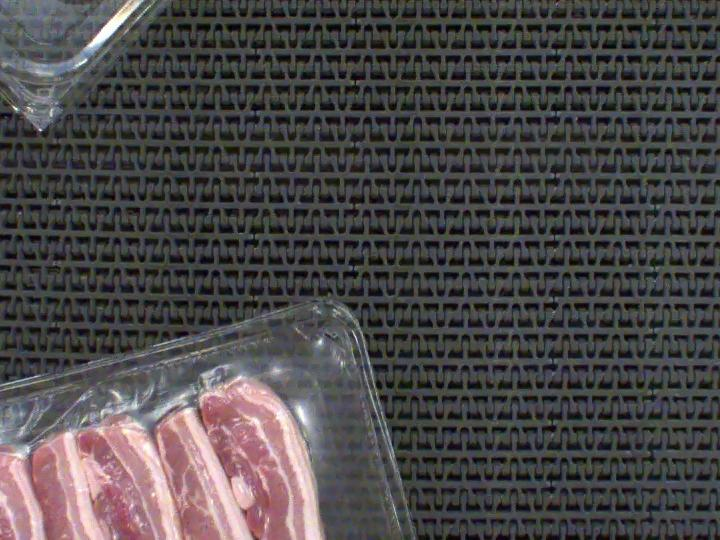unsealed: (0, 362, 395, 540)
